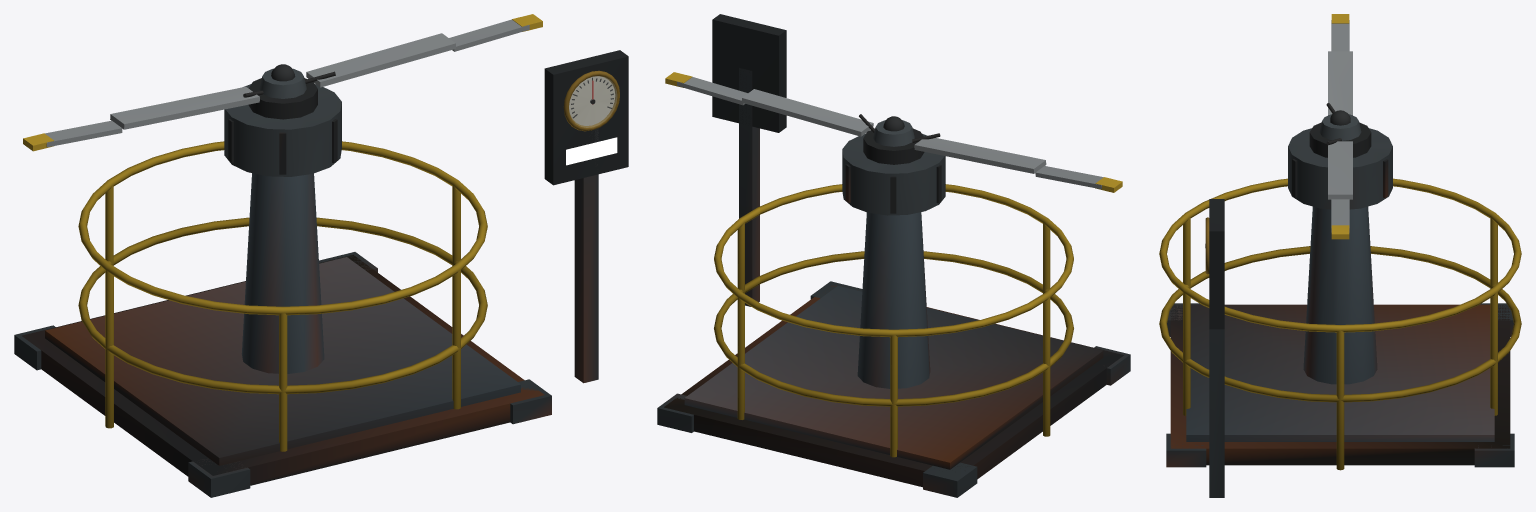
File: rotor-stand.glb
3 renders of one model, left to right at view 1: azimuth 30°, elevation 25°; view 2: azimuth 150°, elevation 25°; view 3: azimuth 270°, elevation 25°, orthographic. The views are drawn at different scales.
Visible parts, largest first — view 1: stand, rotor; view 2: stand, rotor; view 3: stand, rotor.
Part boxes in pixels (<box>): stand: <box>14,50,628,497</box>; rotor: <box>23,14,542,151</box>; stand: <box>657,14,1130,497</box>; rotor: <box>665,72,1122,192</box>; stand: <box>1159,122,1521,497</box>; rotor: <box>1319,14,1361,239</box>.
Size of the model in its own units: 3.49 by 2.02 by 2.35.
